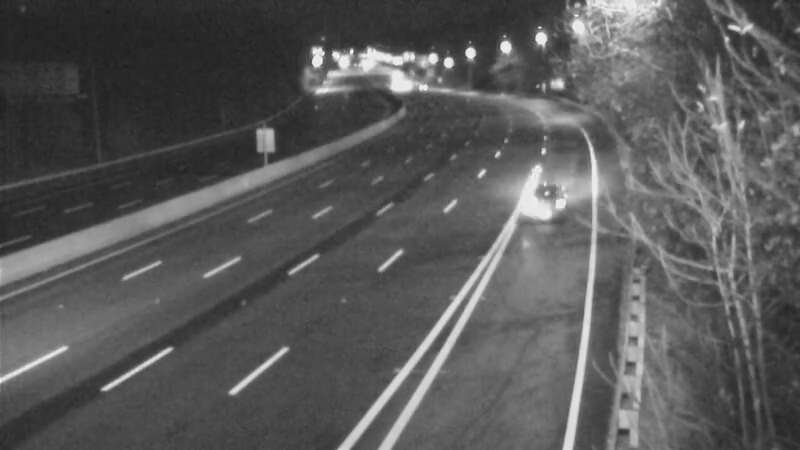vehicle: (507, 152, 587, 232), (400, 64, 450, 114)
